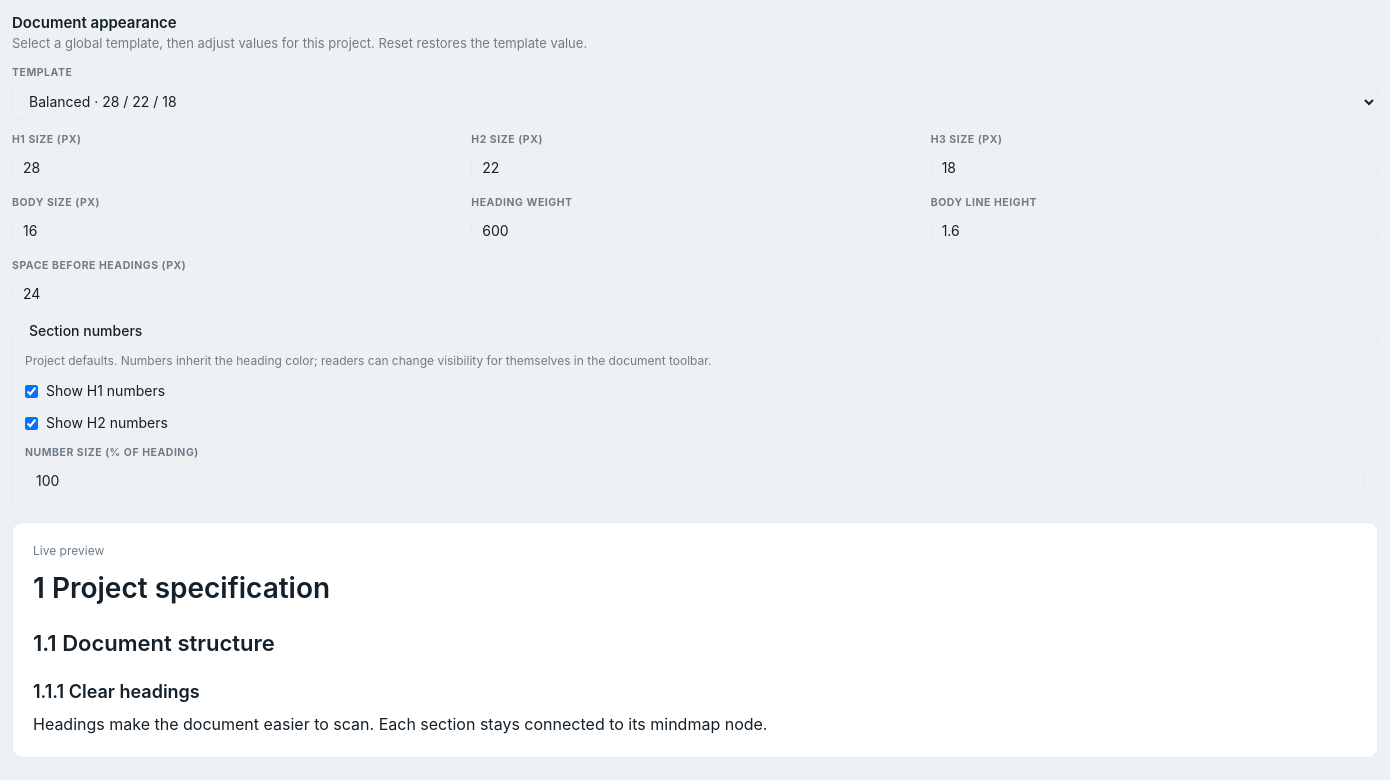
Test: document appearance controls › switches templates, retains overrides, and resets an individual value
The width and height of the screenshot is (1390, 780).
Replace the text in the number field labelled "H1 size (px)" with "36": (236, 167) [12,151,459,183]
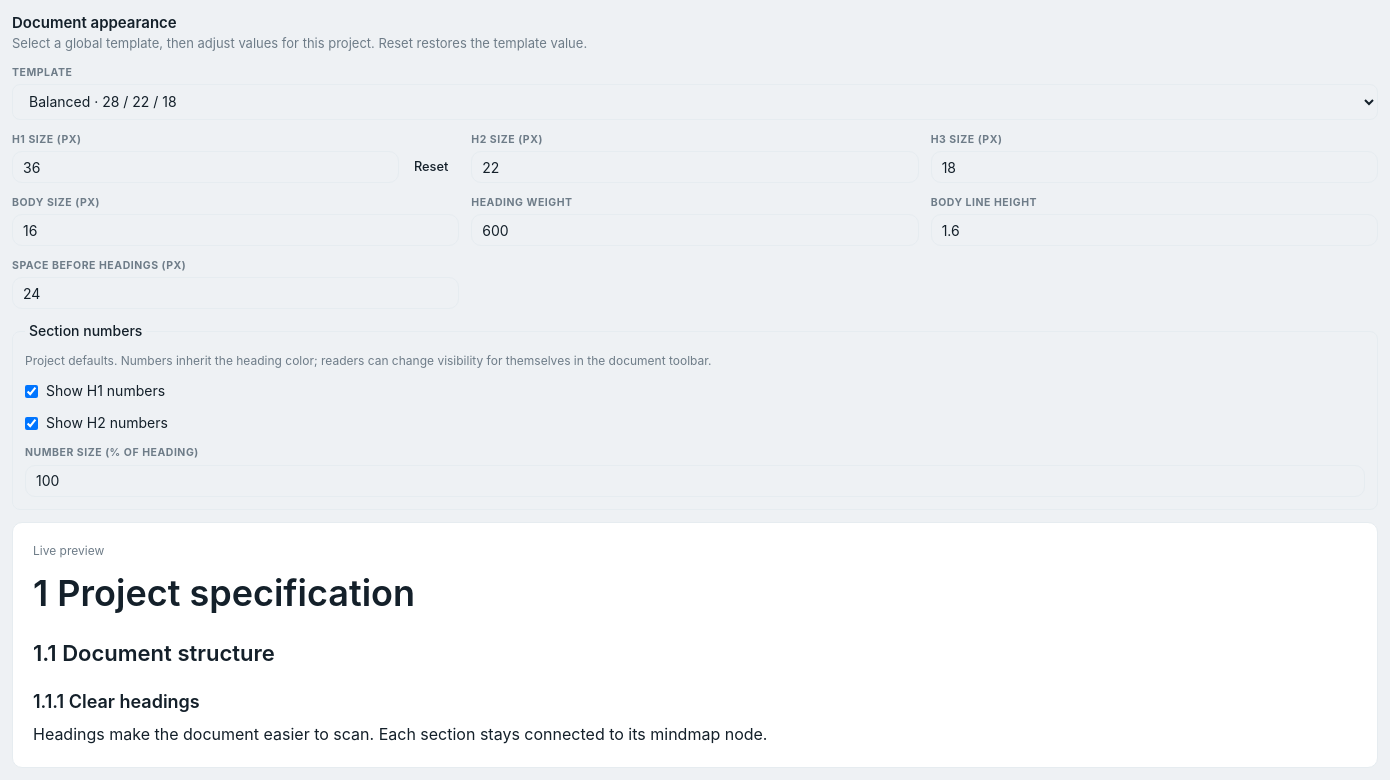
Select "Strong · 32 / 24 / 20" in the dropdown labelled "Template": (695, 102) [12,84,1378,120]
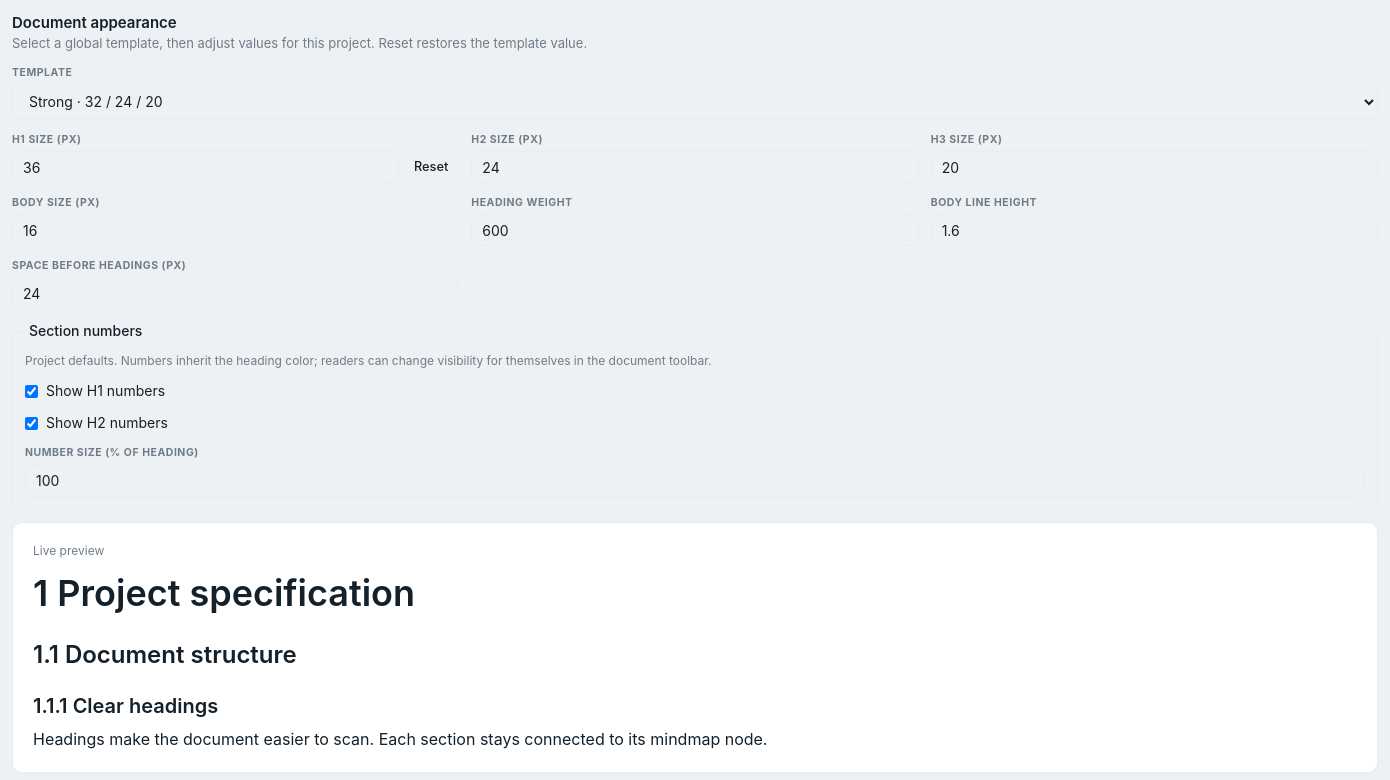
Check: the number field labelled "H2 size (px)" holds "24", box [471,151,919,183]
Click the button with aria-label "Reset: H1 size (px)": (431, 167) [403,153,459,181]
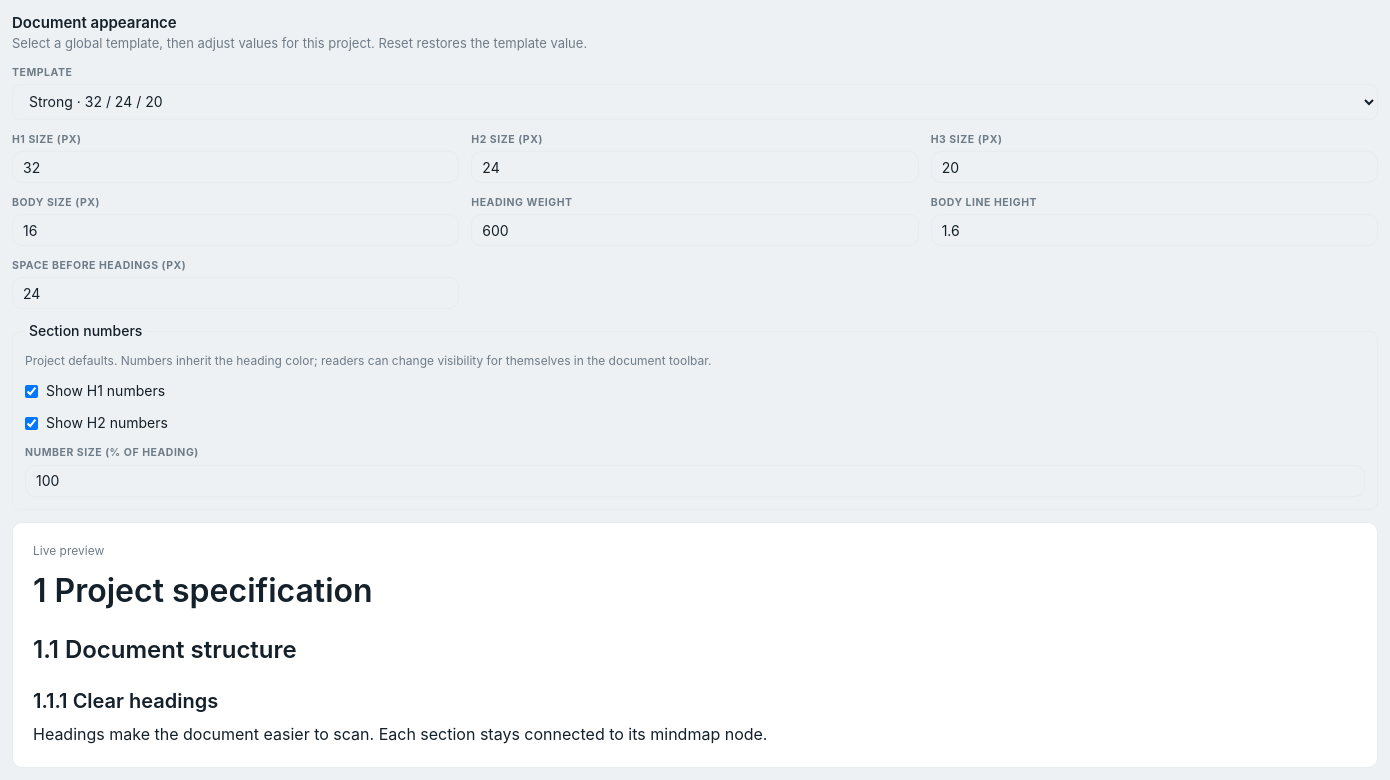
Check: the number field labelled "H1 size (px)" holds "32", box [12,151,459,183]
